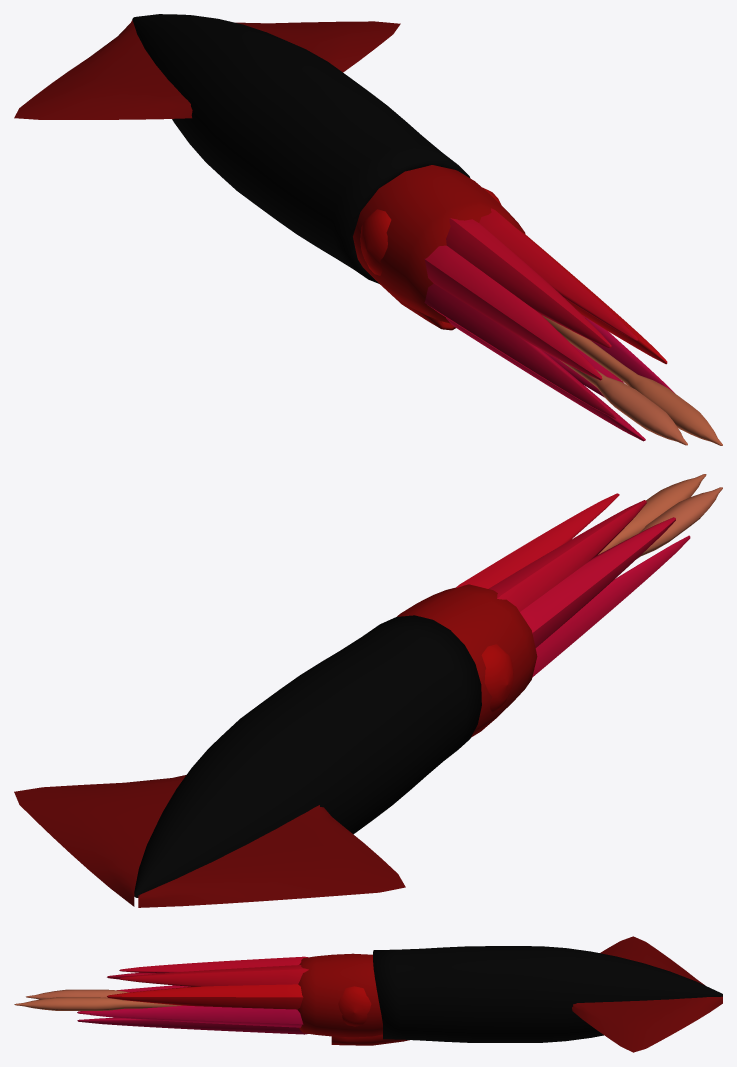
Rendered from humboldt_squid_game.glb.
3 views of the same model, one above another, from view 1: azimuth 30°, elevation 25°; view 2: azimuth 150°, elevation 25°; view 3: azimuth 270°, elevation 25° (orthographic). The views are drawn at different scales.
Parts seen in each view (by area): view 1: humboldt_squid_game; view 2: humboldt_squid_game; view 3: humboldt_squid_game.
Boxes of the visible parts, <box> form: humboldt_squid_game: <box>14,14,722,445</box>; humboldt_squid_game: <box>14,474,722,907</box>; humboldt_squid_game: <box>14,936,722,1052</box>.
Bounding box in the file's own units: 0.9671 × 0.361 × 2.49.
